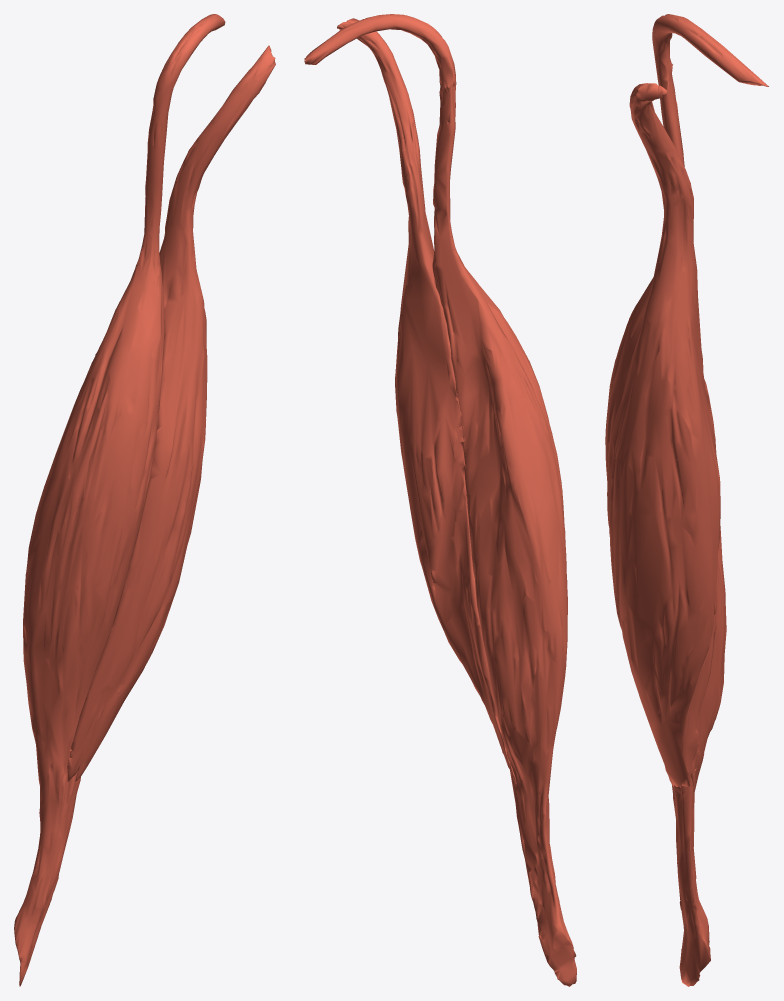
File: biceps-brachii-right.glb
3 views of the same model, side by side, from view 1: azimuth 30°, elevation 25°; view 2: azimuth 150°, elevation 25°; view 3: azimuth 270°, elevation 25° (orthographic). The views are drawn at different scales.
Parts seen in each view (by area): view 1: Long head of biceps brachii.r, Short head of biceps brachii.r; view 2: Long head of biceps brachii.r, Short head of biceps brachii.r; view 3: Short head of biceps brachii.r, Long head of biceps brachii.r.
Part boxes in pixels (x1=…): Long head of biceps brachii.r: x1=14, y1=14, x2=225, y2=986; Short head of biceps brachii.r: x1=67, y1=45, x2=275, y2=782; Long head of biceps brachii.r: x1=304, y1=14, x2=576, y2=986; Short head of biceps brachii.r: x1=337, y1=18, x2=516, y2=785; Short head of biceps brachii.r: x1=607, y1=83, x2=720, y2=793; Long head of biceps brachii.r: x1=605, y1=14, x2=768, y2=986.
Size of the model in its own units: 0.0992 by 0.3571 by 0.0498.
